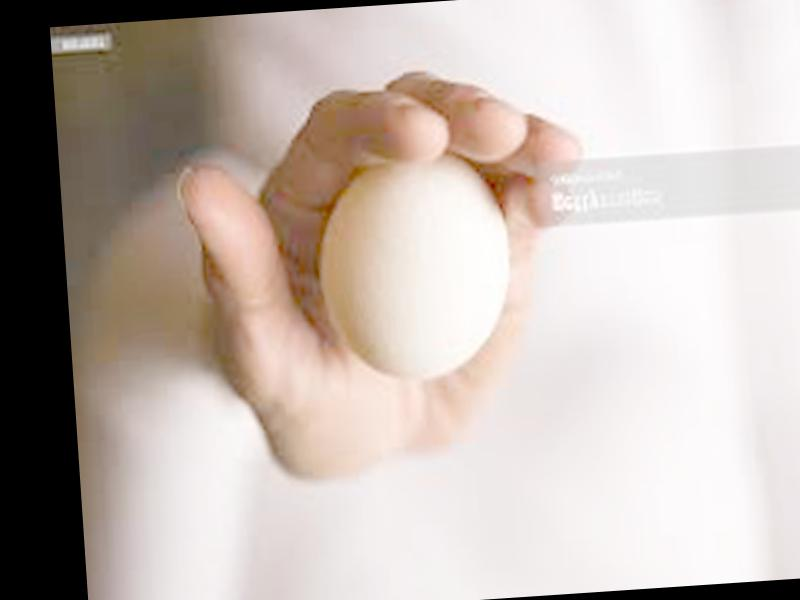Eggs: (310, 151, 516, 383)
